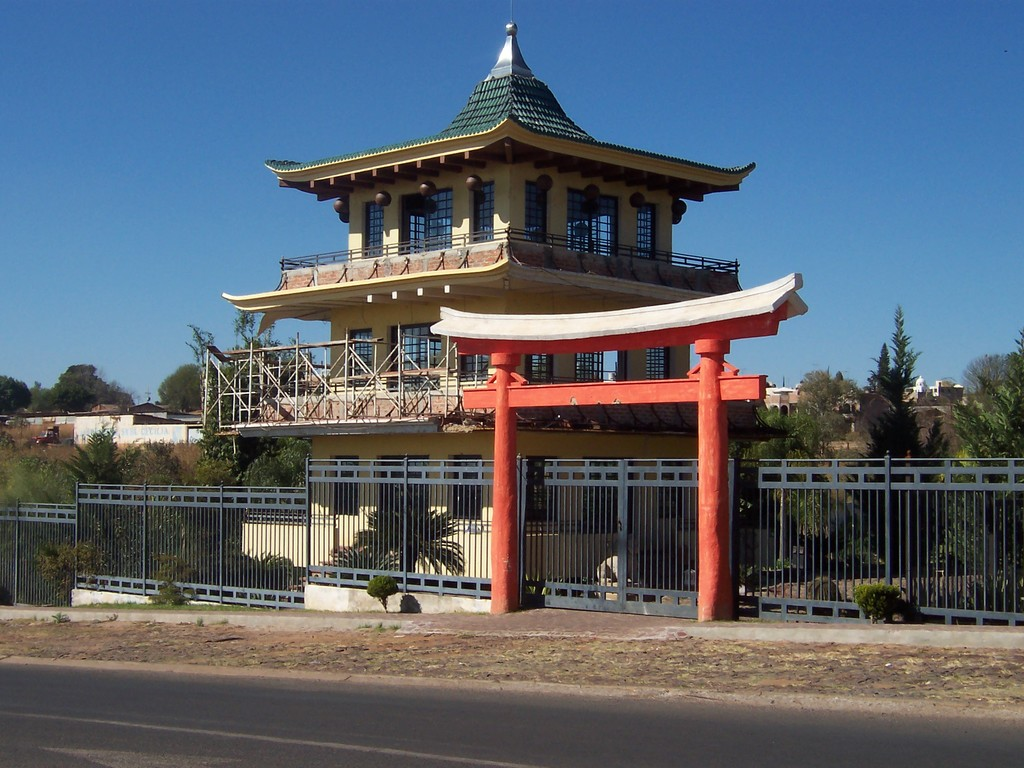Tree: (0, 302, 1023, 607)
